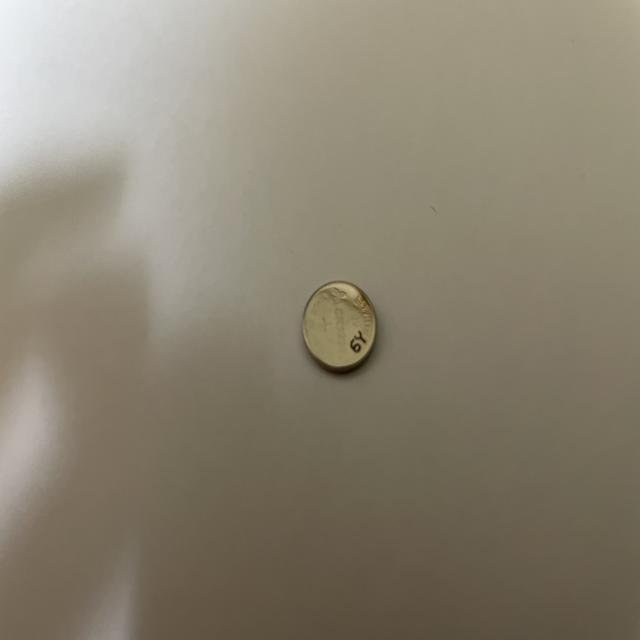COIN: (299, 280, 377, 374)
